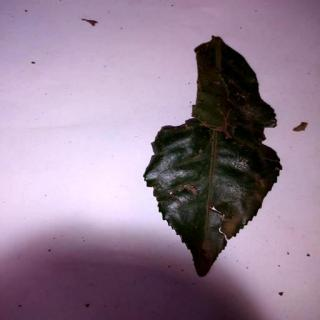Anthracnose: (142, 32, 283, 275)
